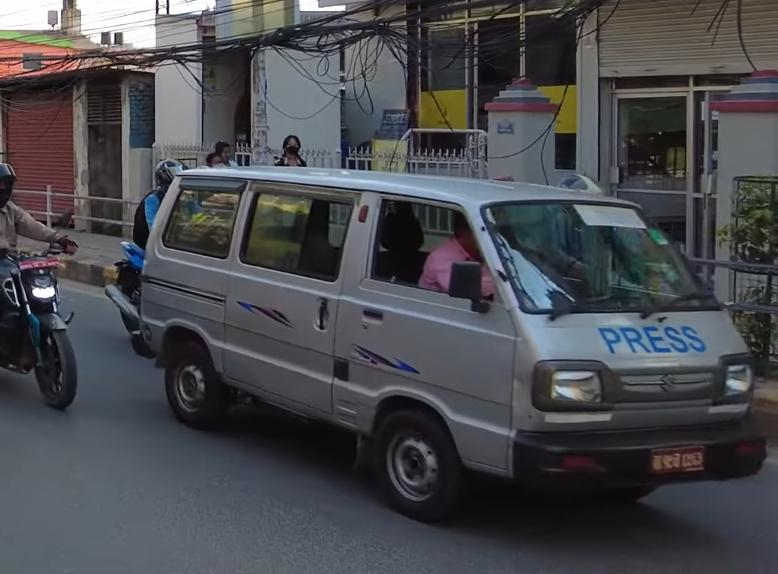bike: (0, 228, 86, 416)
van: (133, 149, 778, 527)
